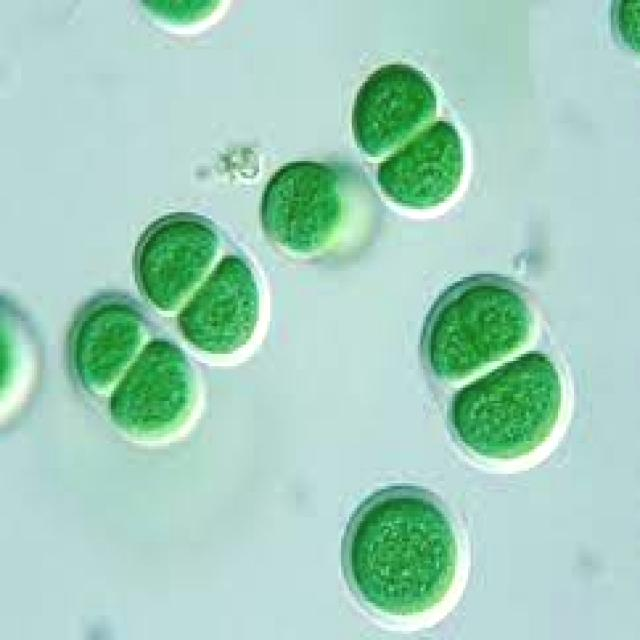Blue Green Algae: (349, 496, 455, 616), (450, 348, 563, 458), (108, 335, 196, 440), (175, 252, 259, 357), (352, 61, 442, 157), (135, 215, 222, 314), (262, 160, 344, 262), (375, 120, 463, 212), (72, 301, 146, 397), (462, 283, 532, 354), (426, 302, 481, 376)
